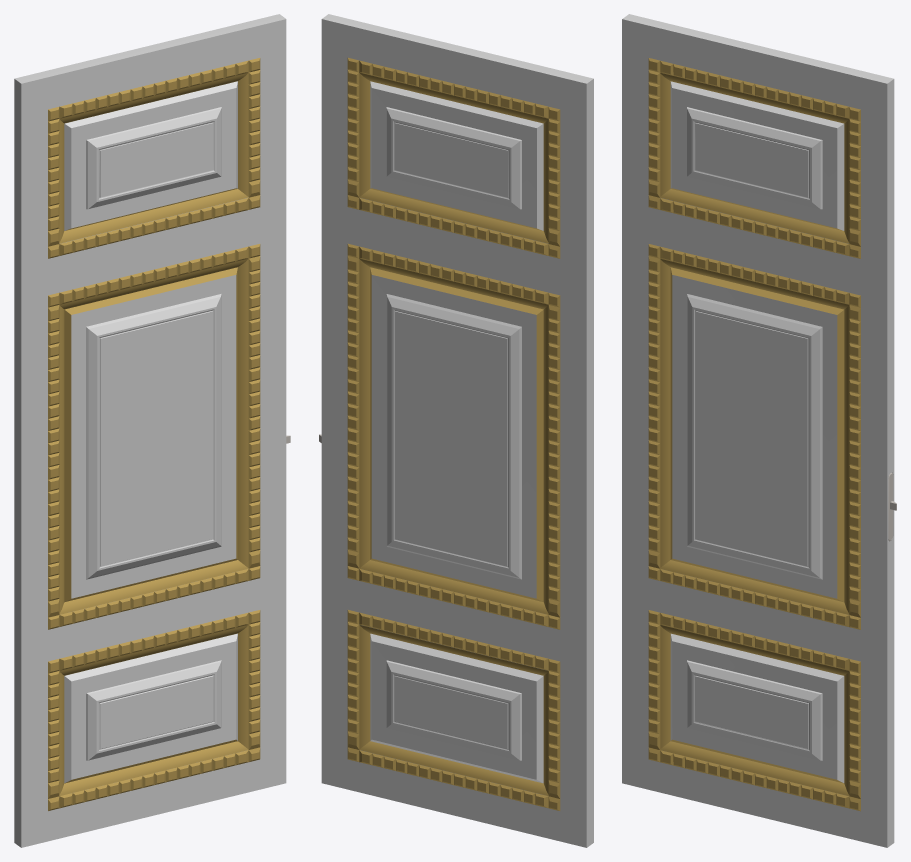
File: 86_MUNICH_Door.glb
3 views of the same model, side by side, from view 1: azimuth 30°, elevation 25°; view 2: azimuth 150°, elevation 25°; view 3: azimuth 330°, elevation 25° (orthographic).
Parts seen in each view (by area): view 1: 86_MUNICH_Door; view 2: 86_MUNICH_Door; view 3: 86_MUNICH_Door.
Boxes of the visible parts, x1,y1,x2,y2 form: 86_MUNICH_Door: (14, 14, 290, 847); 86_MUNICH_Door: (319, 14, 593, 847); 86_MUNICH_Door: (622, 14, 896, 847).
Size of the model in its own units: 0.8194 by 2.2 by 0.0674.
